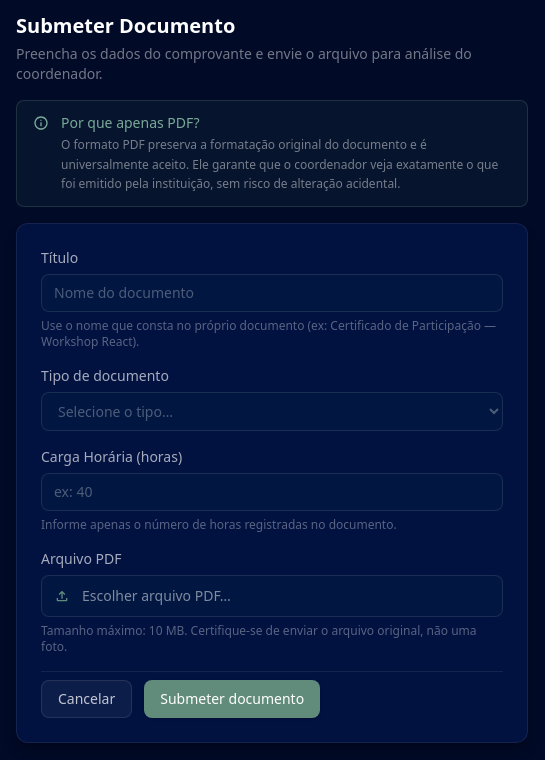
Test: SubmeterDocumento — validação de campos › exibe erro quando título está vazio
Click the button "Submeter documento".
click(232, 698)  # box [144,680,320,718]
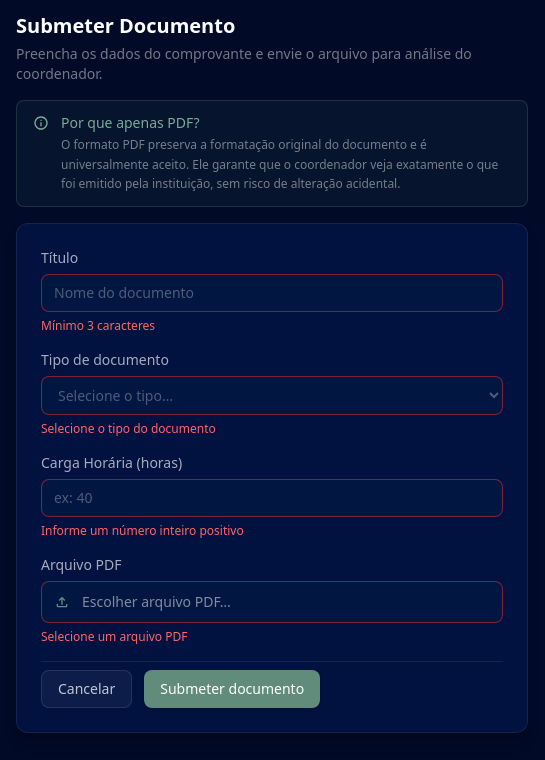
Result: the text "Mínimo 3 caracteres" is shown at [41,316,155,334]
